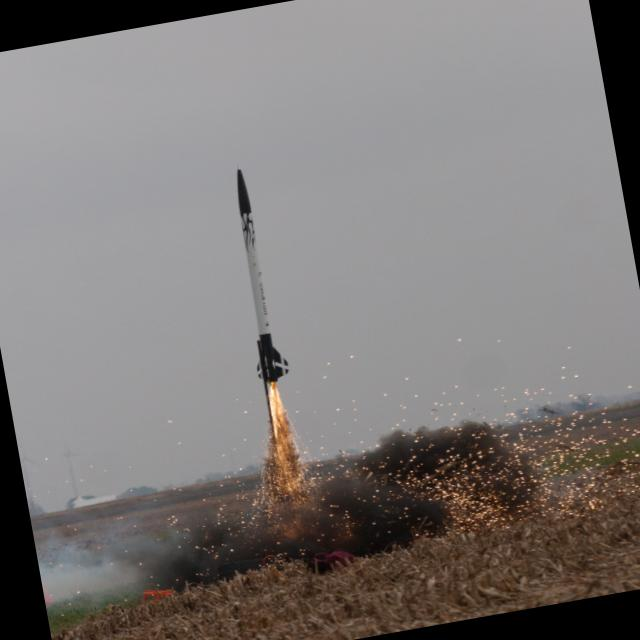rocket: (216, 163, 318, 513)
